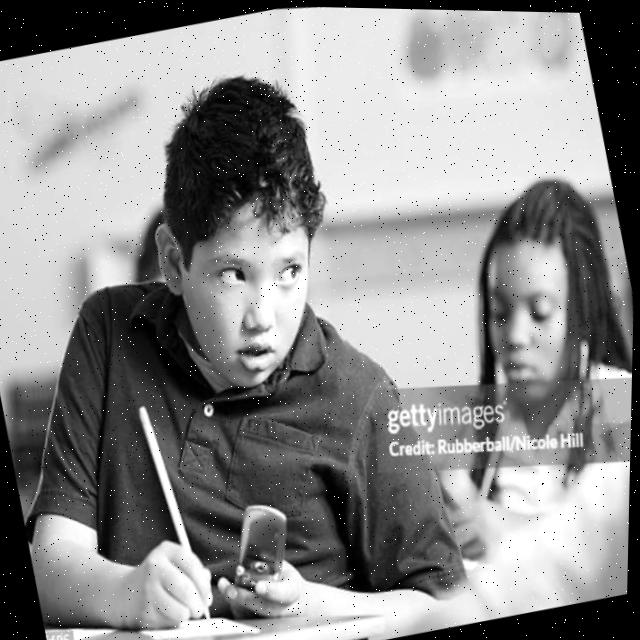phone: (218, 490, 306, 599)
